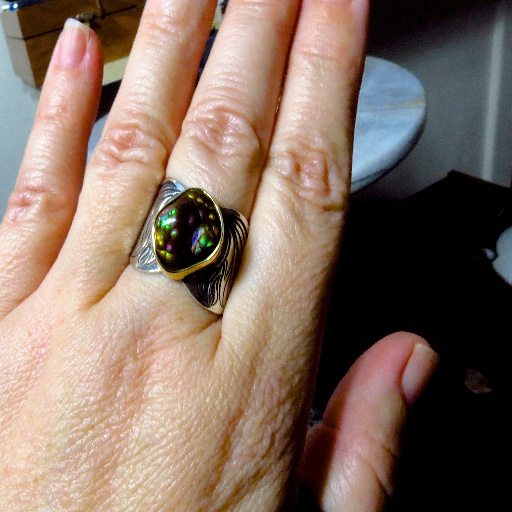hand: (0, 0, 438, 511)
